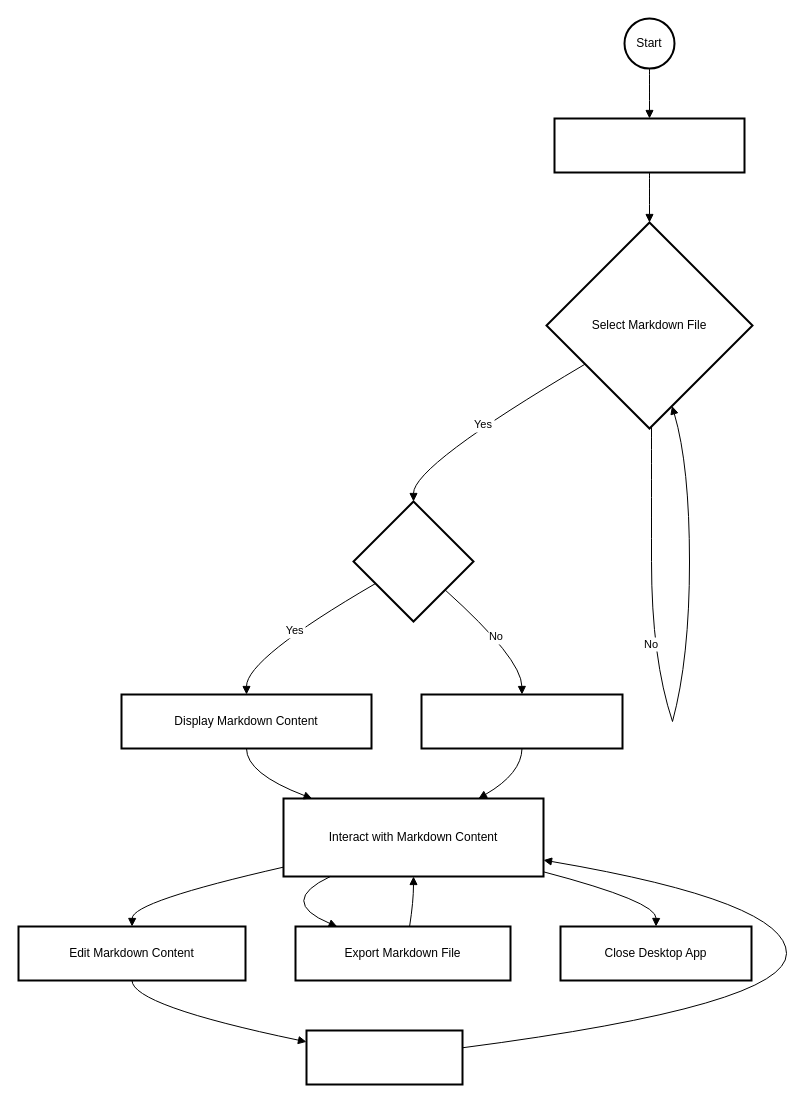
The diagram is 804 pixels wide and 1102 high, and some of its shapes have lost their labels. The shapes that lost their labels are listed below. From the top down, each one's box as (x1, y1, x2, y2) in pixels, then its label:
(553, 117, 745, 173): Open Desktop App
(352, 500, 474, 622): Read File
(420, 693, 623, 749): Show Error Message
(305, 1029, 463, 1085): Save Changes
